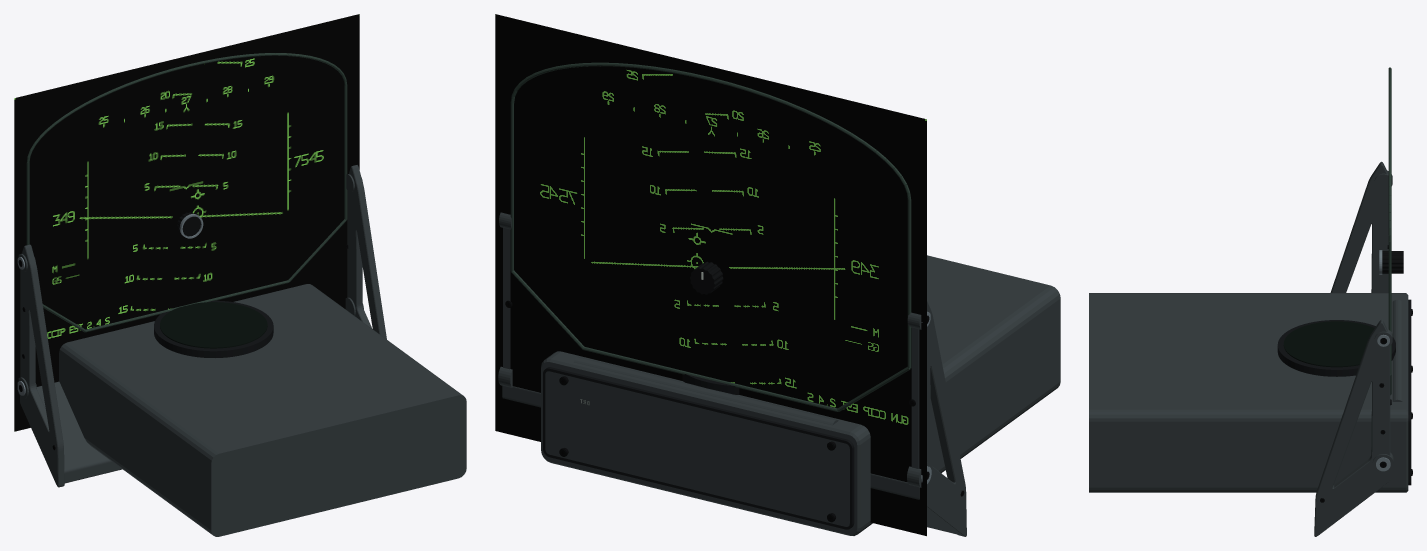
File: MFDStudio.obj
3 views of the same model, side by side, from view 1: azimuth 30°, elevation 25°; view 2: azimuth 150°, elevation 25°; view 3: azimuth 270°, elevation 25° (orthographic). The views are drawn at different scales.
Parts seen in each view (by area): view 1: MFDStudioScreen, MFDStudioBody, MFDStudioCombinerFrame, MFDStudioKnob0; view 2: MFDStudioScreen, MFDStudioBody, MFDStudioCombinerFrame, MFDStudioKnob0; view 3: MFDStudioBody, MFDStudioCombinerFrame, MFDStudioKnob0.
Boxes of the visible parts, bbox=[...] form: MFDStudioScreen: bbox=[14, 14, 359, 431]; MFDStudioBody: bbox=[59, 284, 466, 536]; MFDStudioCombinerFrame: bbox=[17, 53, 386, 487]; MFDStudioKnob0: bbox=[177, 212, 203, 238]; MFDStudioScreen: bbox=[495, 14, 926, 536]; MFDStudioBody: bbox=[541, 255, 1060, 535]; MFDStudioCombinerFrame: bbox=[498, 62, 966, 536]; MFDStudioKnob0: bbox=[690, 261, 723, 294]; MFDStudioBody: bbox=[1089, 293, 1411, 492]; MFDStudioCombinerFrame: bbox=[1314, 67, 1393, 536]; MFDStudioKnob0: bbox=[1379, 250, 1403, 274].
Bounding box in the file's own units: 0.26 × 0.2613 × 0.2133.
Materials: 11 (1 with a texture image).
